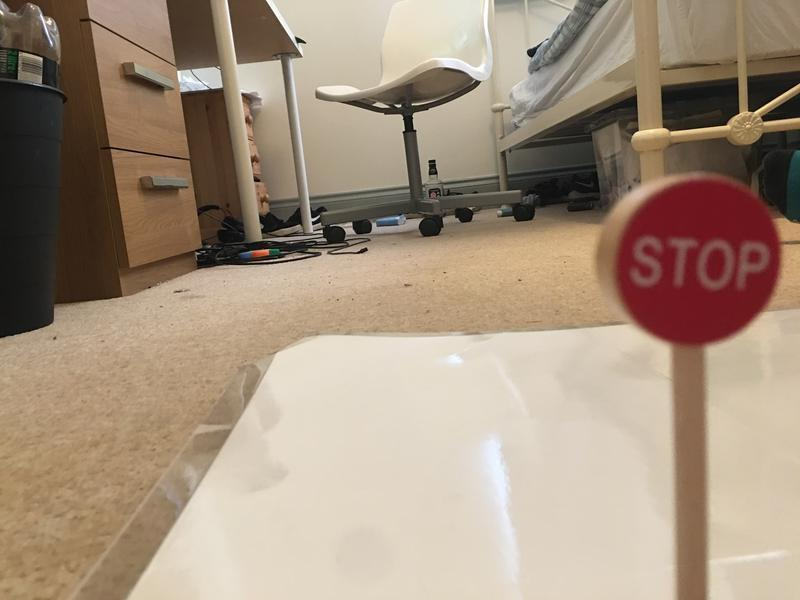Traffic_Sign_Stop: (612, 177, 780, 346)
